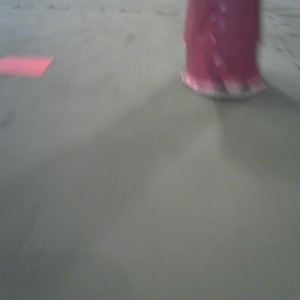right: (180, 1, 267, 98)
